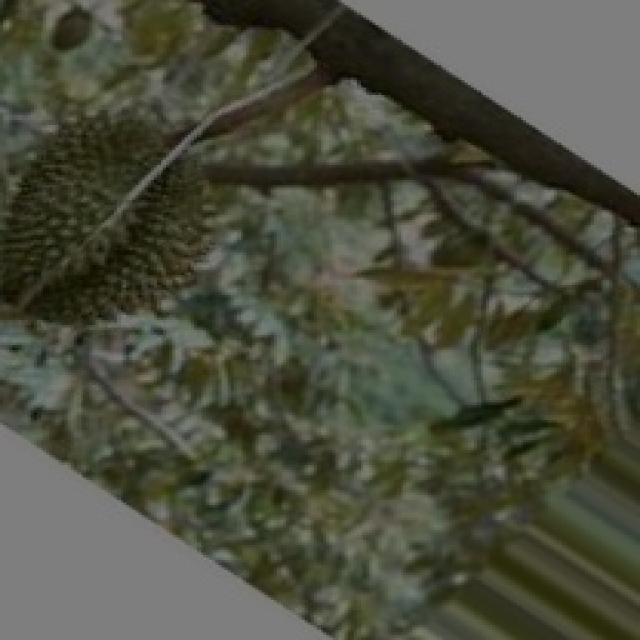fruit: (0, 220, 382, 635), (0, 95, 249, 363)
